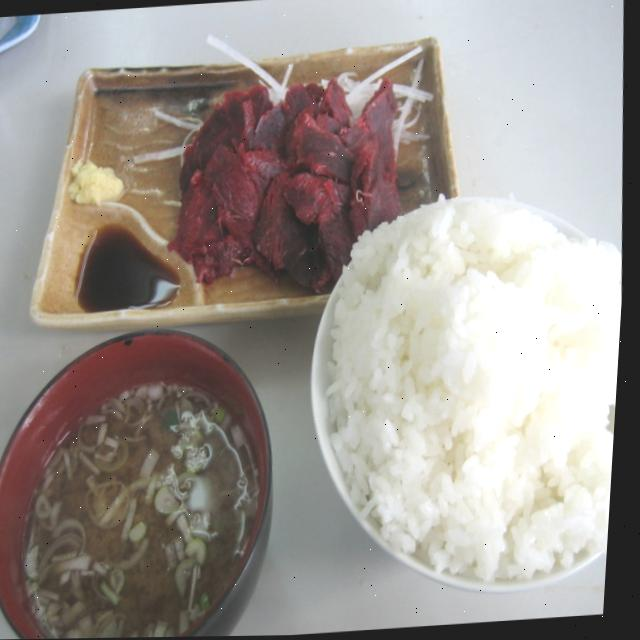刺身生食: (128, 31, 469, 330)
